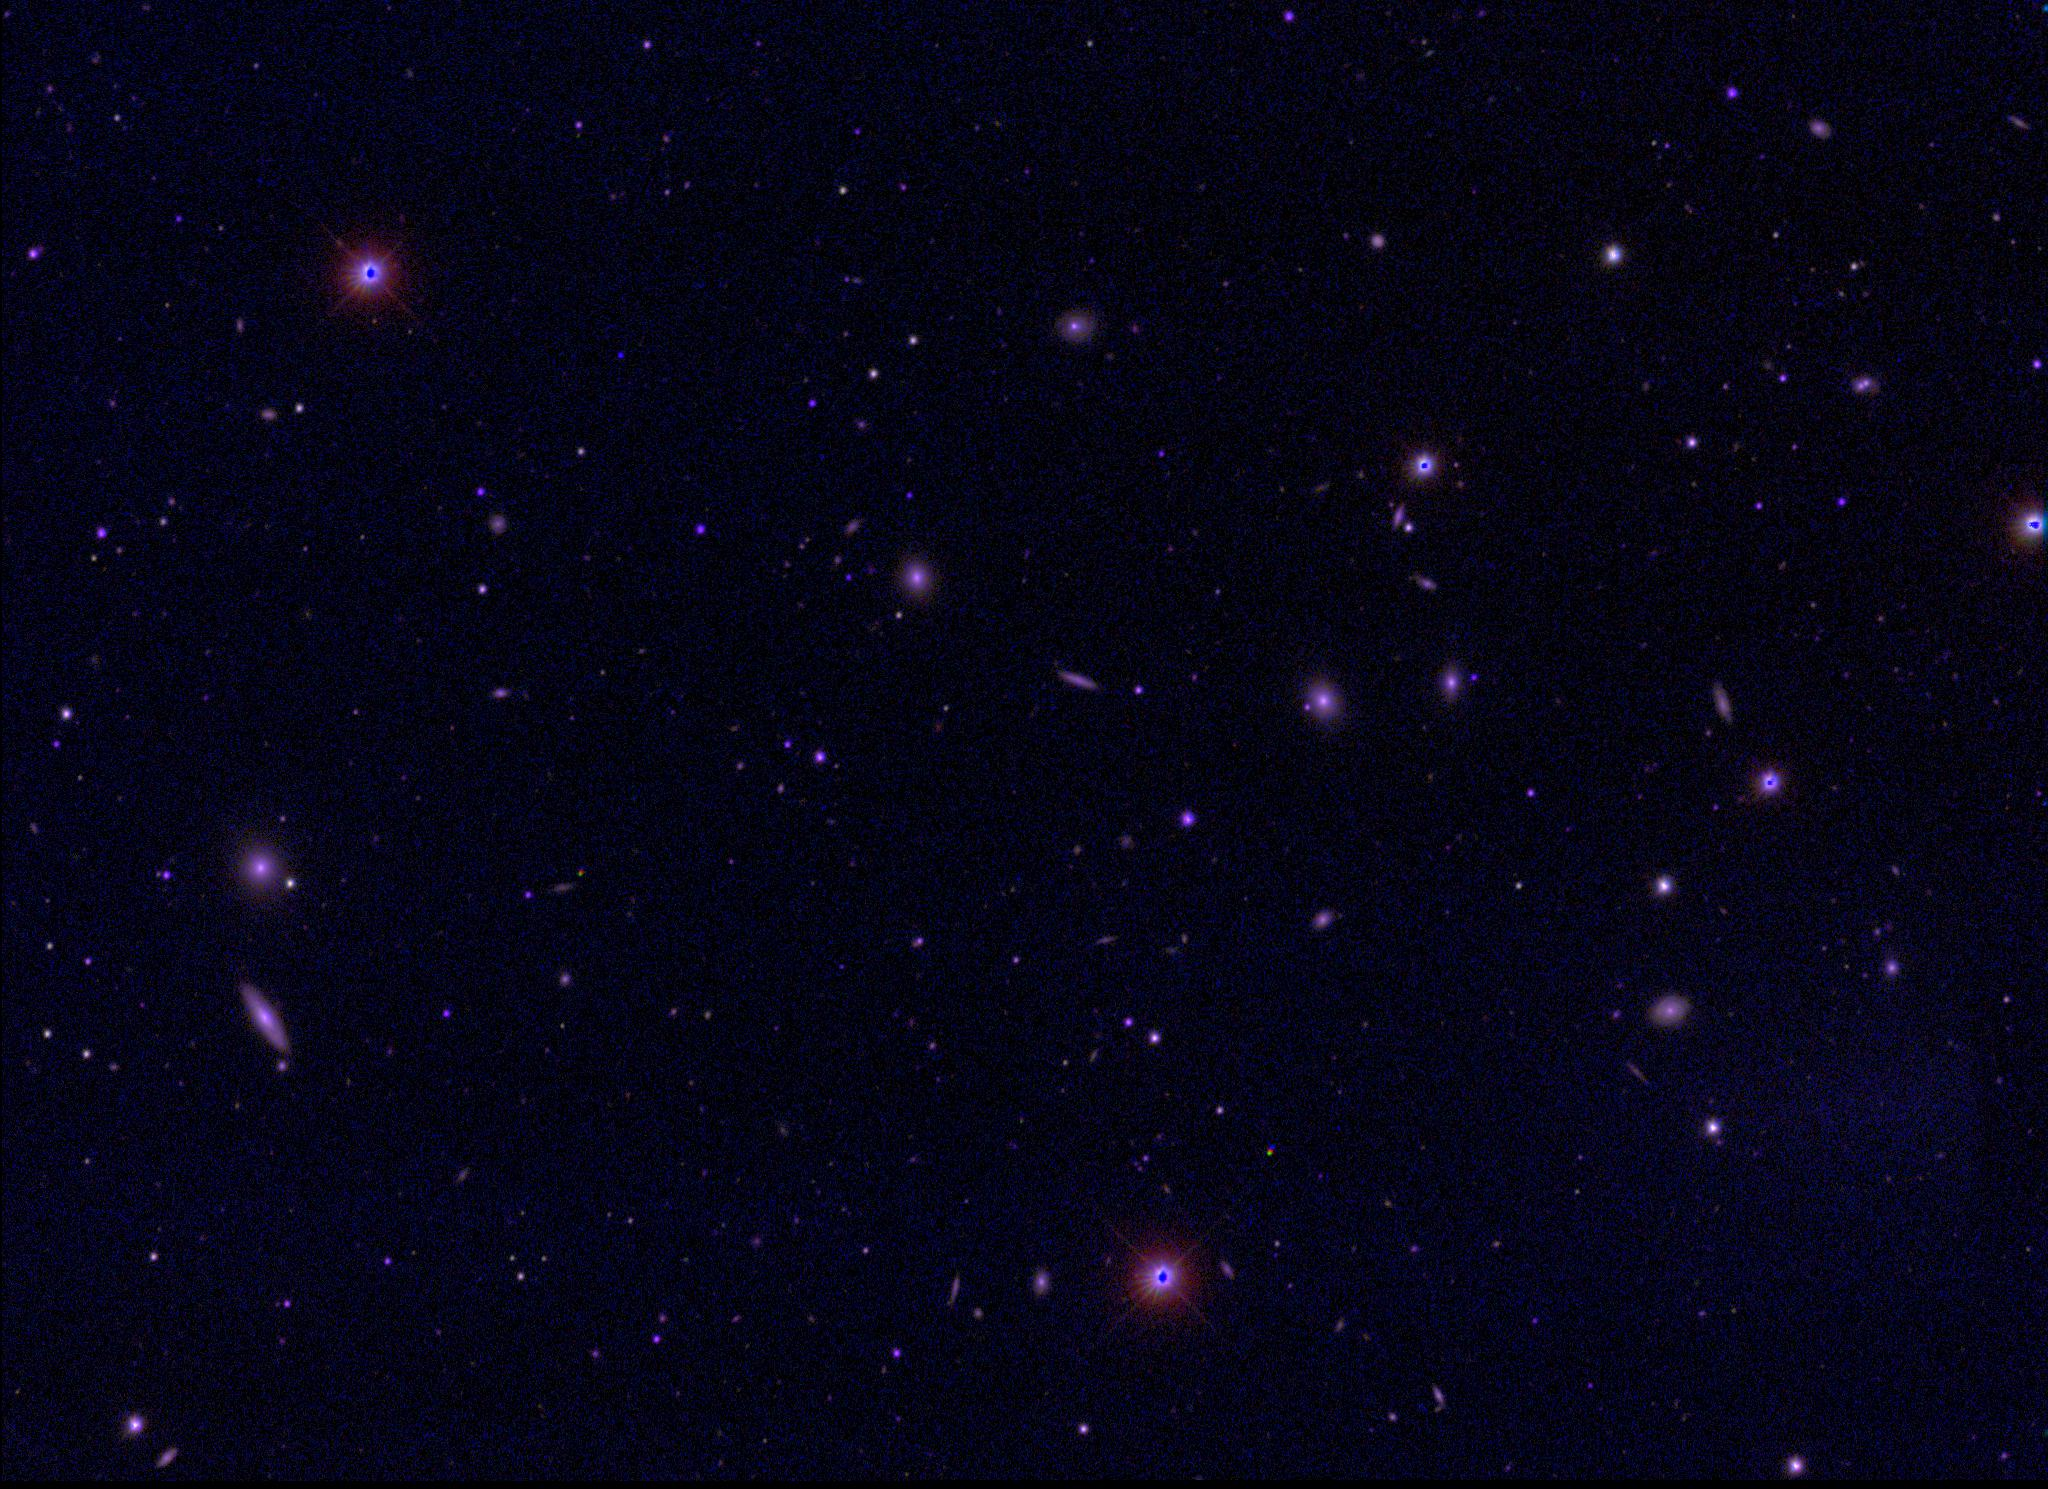L: (614, 348, 626, 363)
